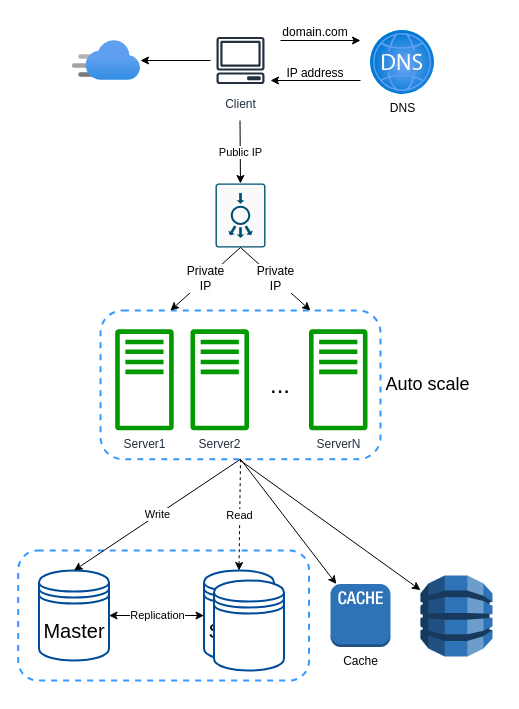
This 519x709 diagram has some shape labels left out. The shapes that lost their labels are listed below. From the top down, each one's centre as x and y in pixels, then its label:
At (x=106, y=60): "CDN".
At (x=240, y=215): "Load Balancer".
At (x=248, y=625): "SlaveN".
At (x=456, y=615): "NoSQL (Shared storage)".
